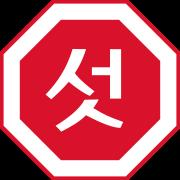Stop: (7, 17, 180, 177)
